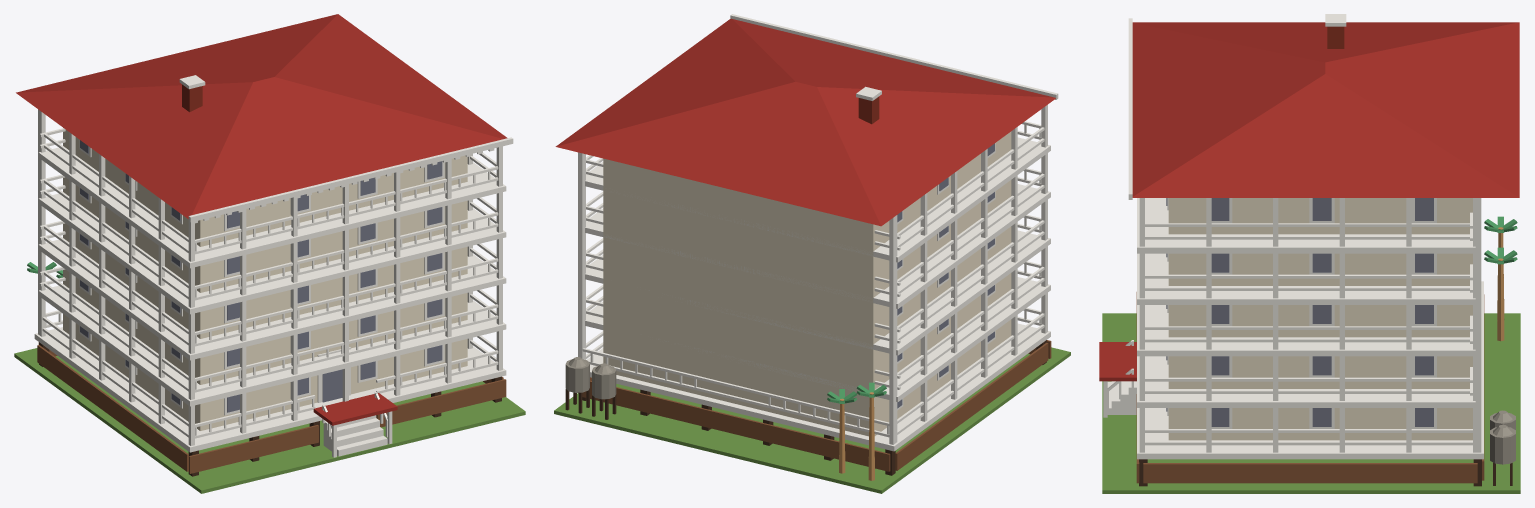
File: house-2x2-5f-queenslander-a.glb
3 views of the same model, side by side, from view 1: azimuth 30°, elevation 25°; view 2: azimuth 150°, elevation 25°; view 3: azimuth 270°, elevation 25° (orthographic). The views are drawn at different scales.
Visible parts, largest first — view 1: house-2x2-5f-queenslander-a; view 2: house-2x2-5f-queenslander-a; view 3: house-2x2-5f-queenslander-a.
Boxes of the visible parts, x1,y1,x2,y2 form: house-2x2-5f-queenslander-a: (14, 14, 525, 493); house-2x2-5f-queenslander-a: (554, 14, 1070, 493); house-2x2-5f-queenslander-a: (1099, 14, 1520, 493).
Bounding box in the file's own units: 1.99 × 1.84 × 2.
1 material, 1 textured.
